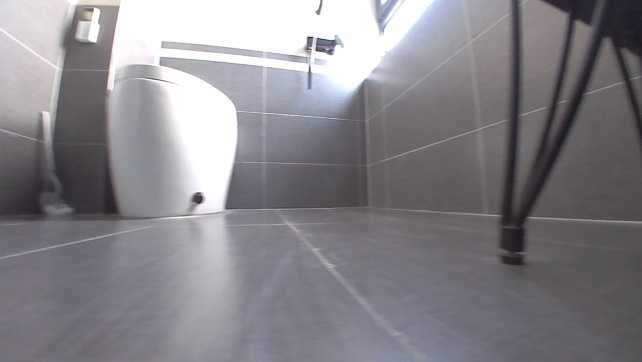toilet: (107, 60, 239, 216)
